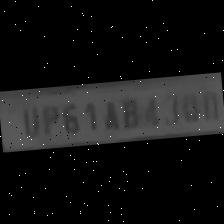1: (80, 97, 102, 133)
4: (138, 92, 162, 128)
6: (56, 97, 82, 136)
A: (98, 94, 122, 132)
B: (118, 93, 142, 130)
P: (38, 100, 60, 137)
U: (15, 103, 42, 139)
